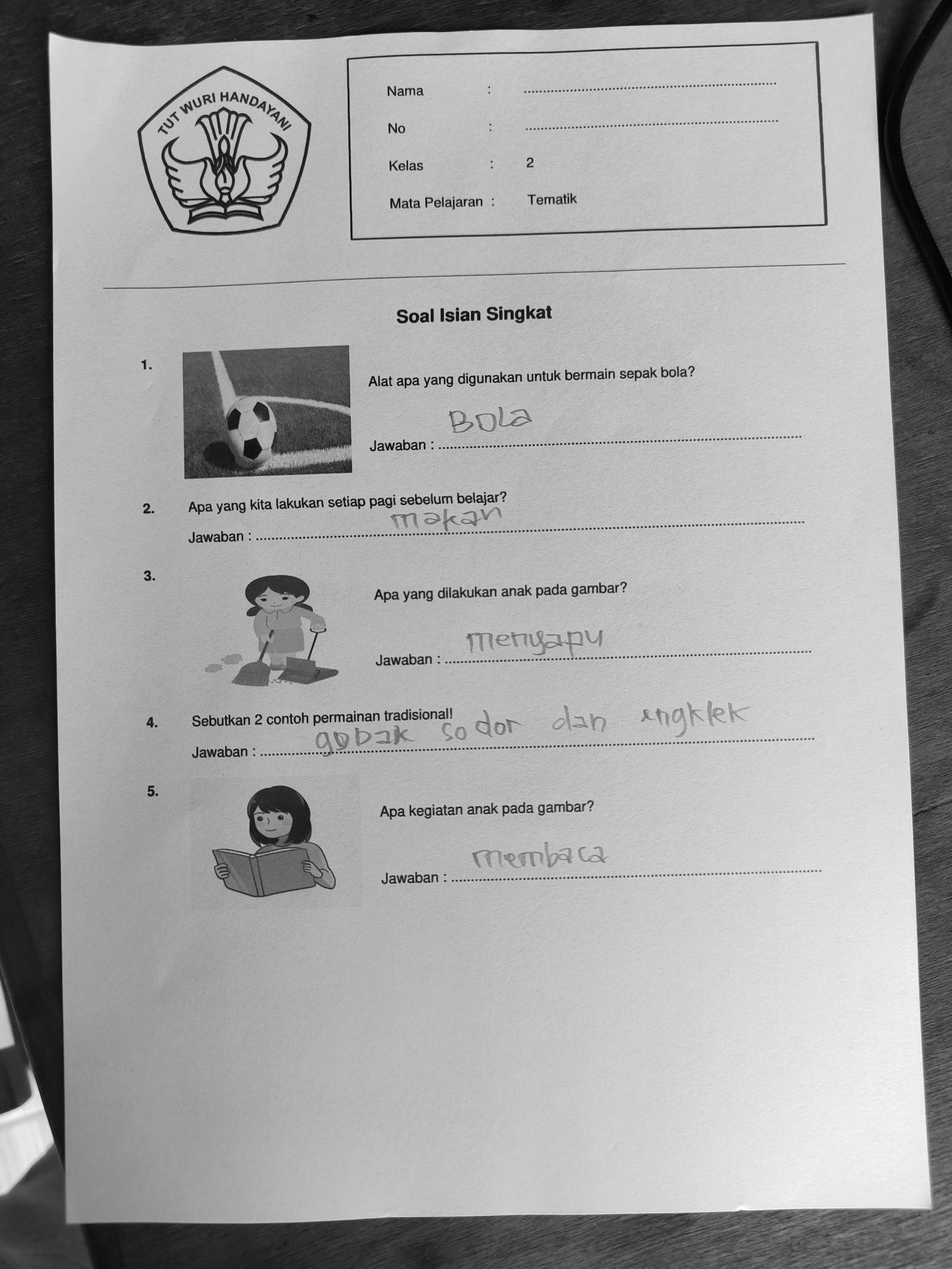soal-1: (134, 323, 823, 487)
soal-2: (132, 461, 823, 561)
soal-3: (130, 540, 827, 700)
soal-4: (129, 672, 835, 772)
soal-5: (132, 754, 844, 912)
